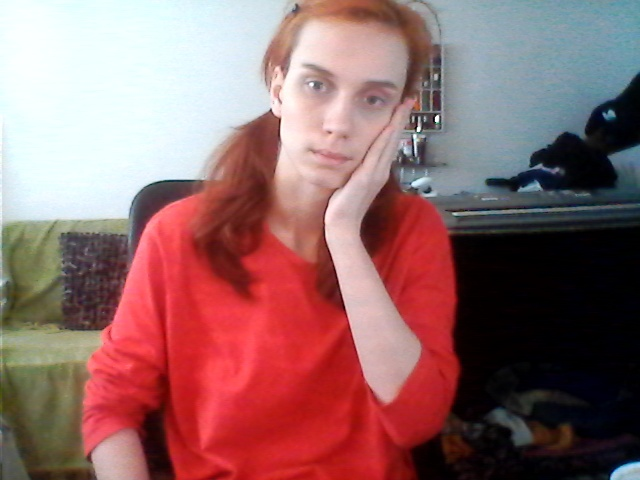lezat: (320, 98, 422, 264)
